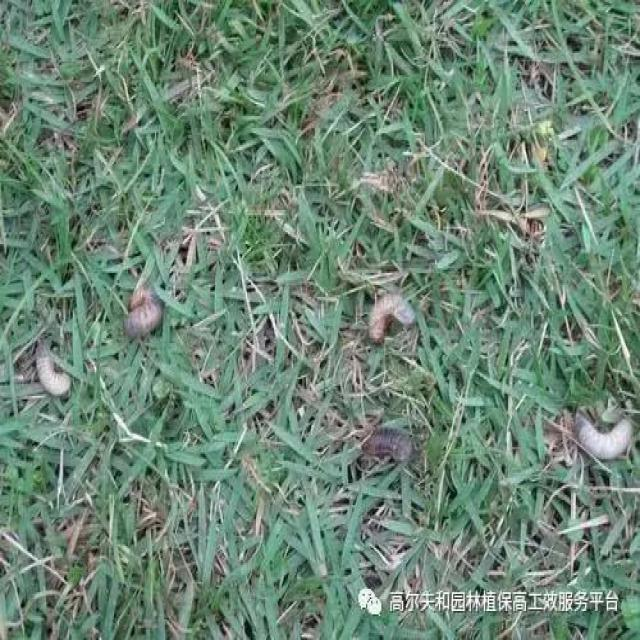Grub-Adult-: (361, 287, 422, 350), (566, 411, 638, 463), (121, 280, 173, 345), (34, 340, 75, 403)
